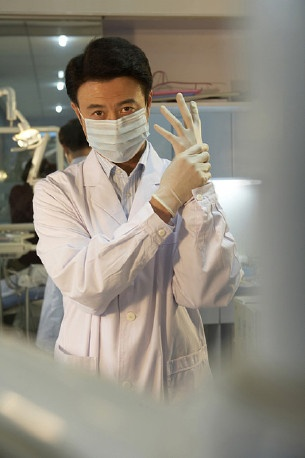Mask: (80, 96, 148, 163)
